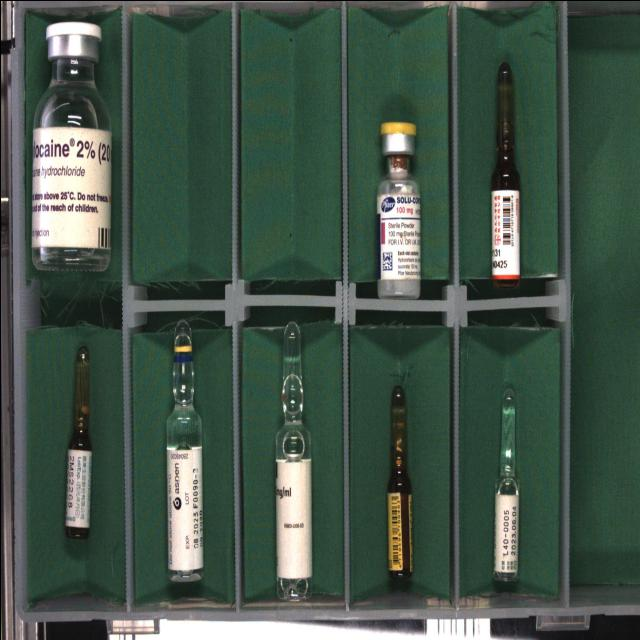Vials: (31, 21, 110, 270), (376, 121, 419, 298)
